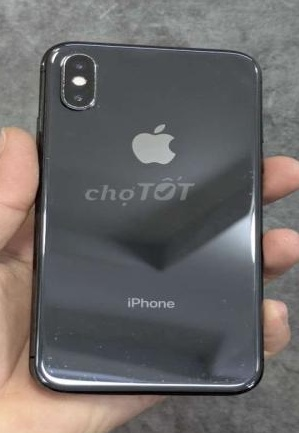scratch: (92, 340, 142, 366), (174, 368, 238, 384), (228, 358, 257, 384), (46, 355, 79, 375), (46, 325, 72, 344), (119, 328, 144, 345), (238, 164, 257, 182), (85, 92, 106, 108), (212, 50, 233, 64), (215, 314, 230, 329), (40, 148, 52, 163), (90, 371, 107, 380), (243, 317, 253, 332), (126, 372, 139, 382), (160, 375, 170, 387), (219, 287, 227, 302), (247, 188, 255, 201)
